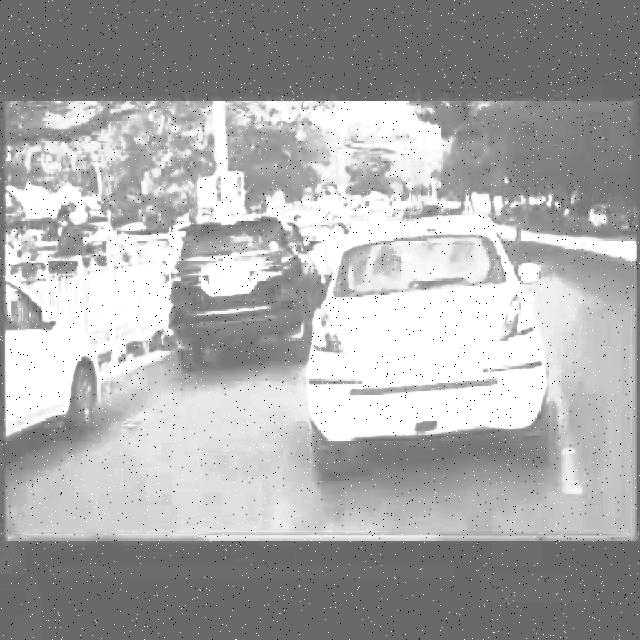Car: (317, 214, 564, 474), (171, 210, 316, 378), (2, 274, 120, 461)
